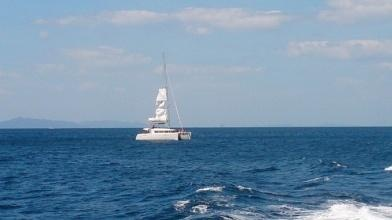fanchuan: (134, 64, 193, 142)
